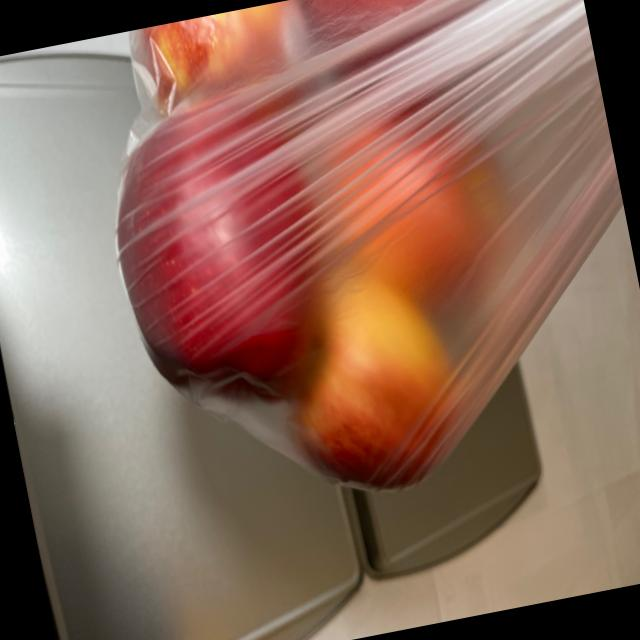apple: (71, 0, 583, 533)
